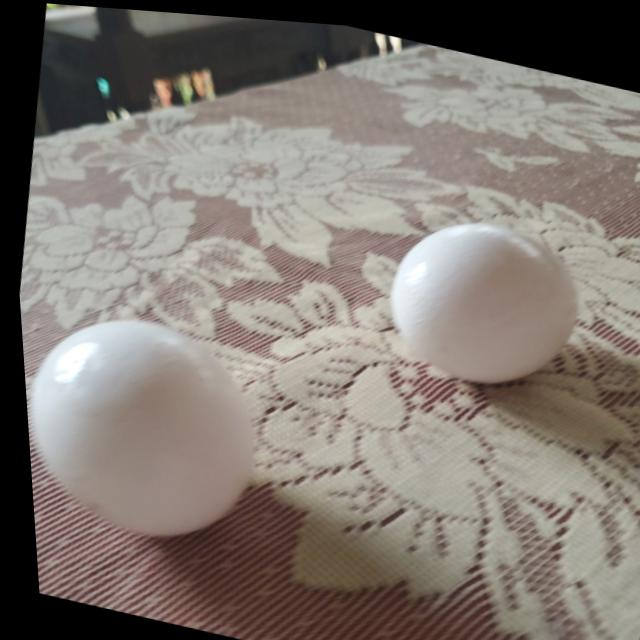egg: (16, 297, 271, 553), (367, 188, 586, 392)
